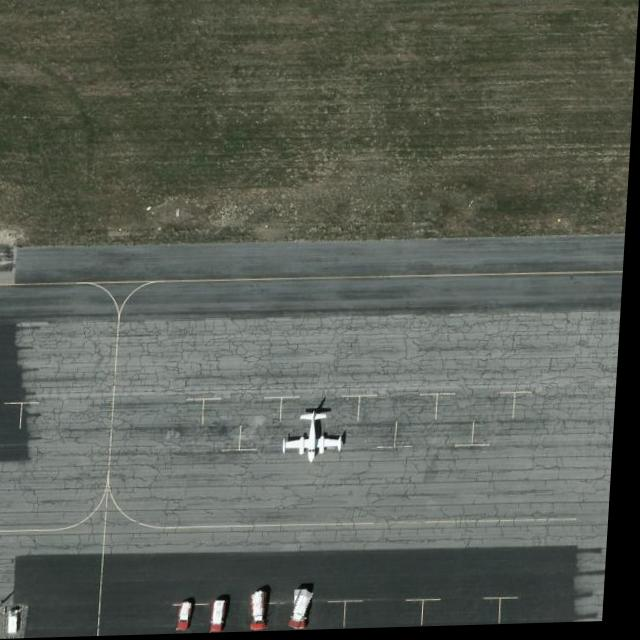vehicle: (295, 592, 318, 631), (257, 594, 278, 632), (218, 602, 235, 634), (185, 604, 200, 634)
